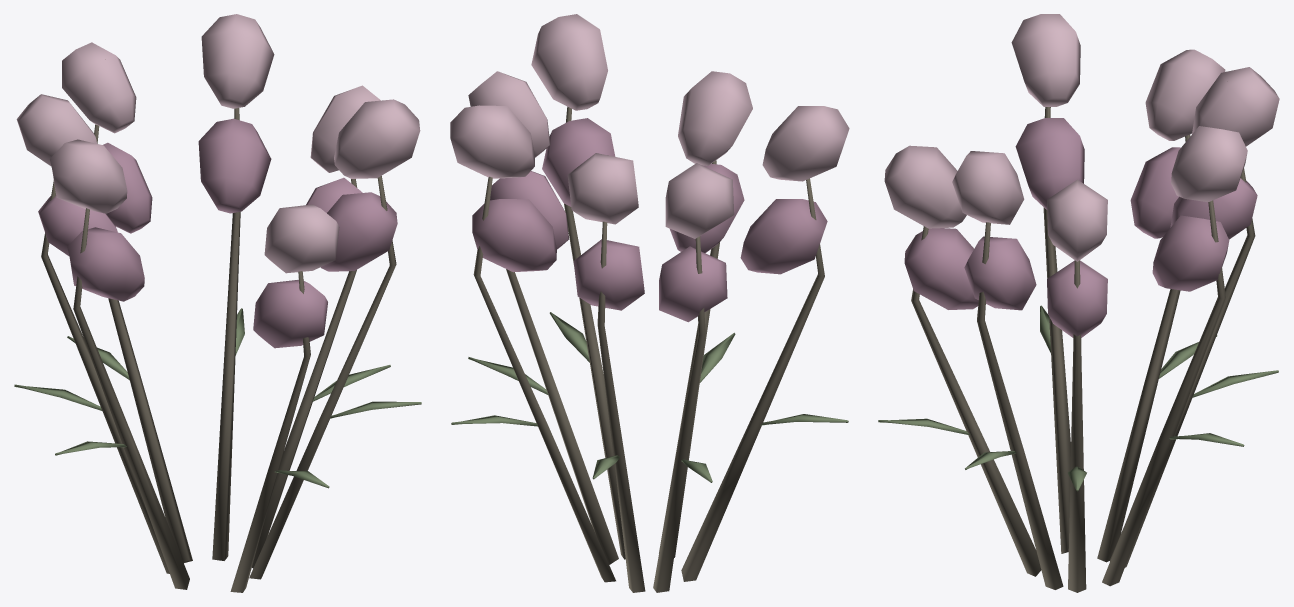
The model's file is shrub_heather.glb.
3 renders of one model, left to right at view 1: azimuth 30°, elevation 25°; view 2: azimuth 150°, elevation 25°; view 3: azimuth 270°, elevation 25°, orthographic. The views are drawn at different scales.
Parts seen in each view (by area): view 1: shrub_heather; view 2: shrub_heather; view 3: shrub_heather.
Boxes of the visible parts, x1,y1,x2,y2 form: shrub_heather: (14, 14, 421, 592); shrub_heather: (450, 14, 849, 592); shrub_heather: (878, 14, 1279, 592).
Size of the model in its own units: 0.7224 by 0.95 by 0.7074.
